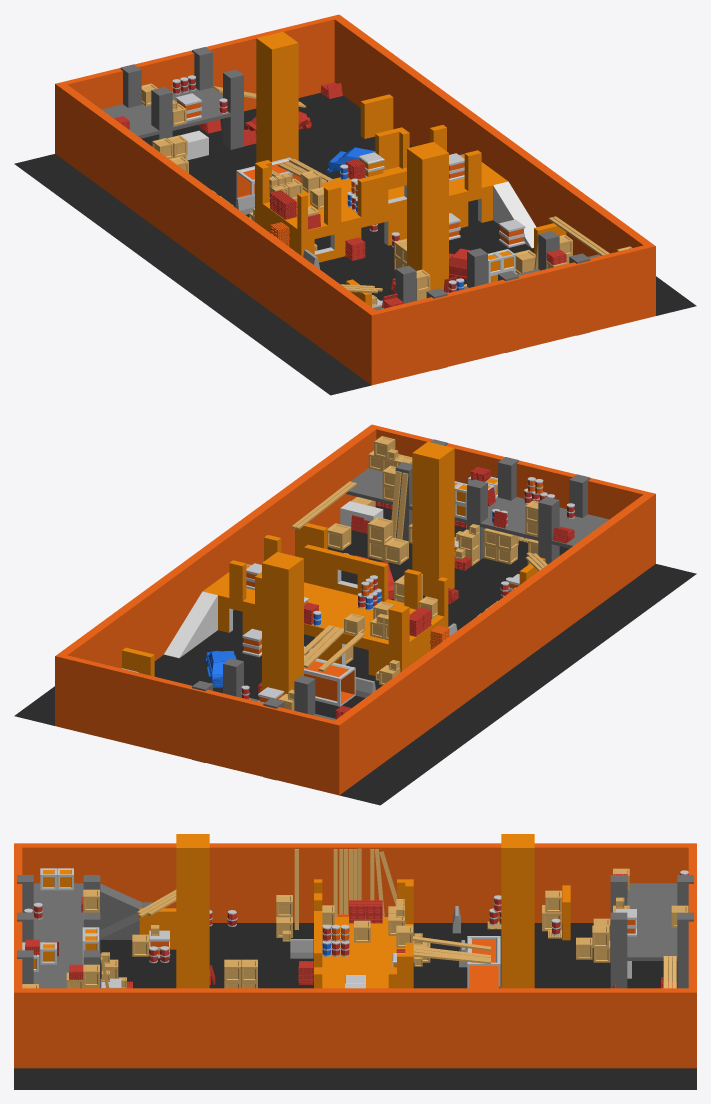
Rendered from warehouse 2.glb.
3 renders of one model, top to bottom at view 1: azimuth 30°, elevation 25°; view 2: azimuth 150°, elevation 25°; view 3: azimuth 270°, elevation 25°, orthographic. The views are drawn at different scales.
Visible parts, largest first — view 1: floors, Plane, room, Cube.016, obj.048, obj.049, Cube.004, Cube.001, obj.004, Cube.005, BigBox.004, Cube.011; view 2: floors, Plane, room, Cube.004, obj.048, obj.049, Cube.016, Cube.002, Cube.005, obj.002, obj.004, Cube.017 (+3 smaller); view 3: floors, Plane, Cube.016, Cube.004, room, obj.048, obj.049, up2, Cube.005, Cube.030, obj.024, Cube.023 (+6 smaller).
Boxes of the visible parts, x1=… form: floors: x1=55, y1=14, x2=655, y2=385; Plane: x1=14, y1=92, x2=696, y2=395; room: x1=255, y1=125, x2=507, y2=262; Cube.016: x1=102, y1=47, x2=243, y2=149; obj.048: x1=407, y1=142, x2=448, y2=290; obj.049: x1=256, y1=31, x2=298, y2=162; Cube.004: x1=374, y1=230, x2=600, y2=370; Cube.001: x1=493, y1=181, x2=536, y2=248; obj.004: x1=360, y1=94, x2=393, y2=138; Cube.005: x1=236, y1=157, x2=302, y2=198; BigBox.004: x1=499, y1=219, x2=525, y2=247; Cube.011: x1=180, y1=130, x2=208, y2=160; floors: x1=55, y1=424, x2=655, y2=795; Plane: x1=14, y1=505, x2=696, y2=805; room: x1=203, y1=535, x2=448, y2=675; Cube.004: x1=345, y1=439, x2=608, y2=564; obj.048: x1=412, y1=441, x2=454, y2=598; obj.049: x1=262, y1=552, x2=303, y2=695; Cube.016: x1=192, y1=658, x2=335, y2=780; Cube.002: x1=164, y1=591, x2=217, y2=658; Cube.005: x1=304, y1=655, x2=355, y2=706; obj.002: x1=295, y1=523, x2=327, y2=558; obj.004: x1=122, y1=647, x2=154, y2=676; Cube.017: x1=340, y1=501, x2=383, y2=526; floors: x1=14, y1=843, x2=696, y2=1068; Plane: x1=14, y1=923, x2=696, y2=1089; Cube.016: x1=610, y1=875, x2=693, y2=988; Cube.004: x1=17, y1=875, x2=100, y2=988; room: x1=314, y1=879, x2=413, y2=988; obj.048: x1=176, y1=834, x2=209, y2=988; obj.049: x1=501, y1=834, x2=534, y2=988; up2: x1=100, y1=883, x2=153, y2=939; Cube.005: x1=467, y1=936, x2=500, y2=988; Cube.030: x1=339, y1=849, x2=357, y2=914; obj.024: x1=139, y1=908, x2=176, y2=949; Cube.023: x1=370, y1=849, x2=384, y2=916.
Bounding box in the file's own units: 10.96 × 4.05 × 16.4.
